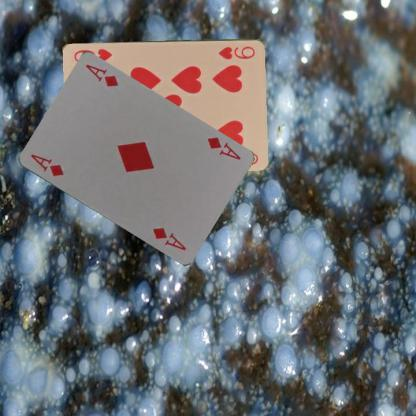9h: (216, 43, 256, 61)
Ad: (27, 151, 64, 178), (204, 134, 241, 161)
